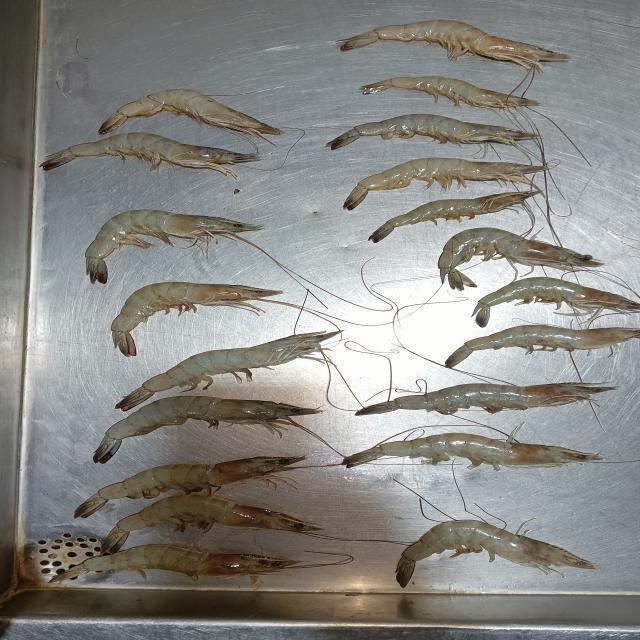shrimp: (115, 331, 339, 411), (94, 395, 314, 463), (75, 456, 304, 517), (396, 521, 596, 587), (86, 210, 258, 282), (112, 282, 280, 355), (100, 494, 315, 551), (340, 20, 567, 67), (344, 157, 542, 209), (438, 228, 602, 288), (344, 433, 603, 467), (356, 382, 615, 415), (39, 133, 259, 171), (100, 89, 280, 135), (444, 325, 639, 367), (369, 192, 536, 241), (66, 544, 296, 579), (473, 277, 638, 325), (328, 114, 533, 147), (361, 76, 538, 107)
